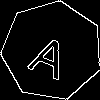A: (26, 26, 76, 81)
